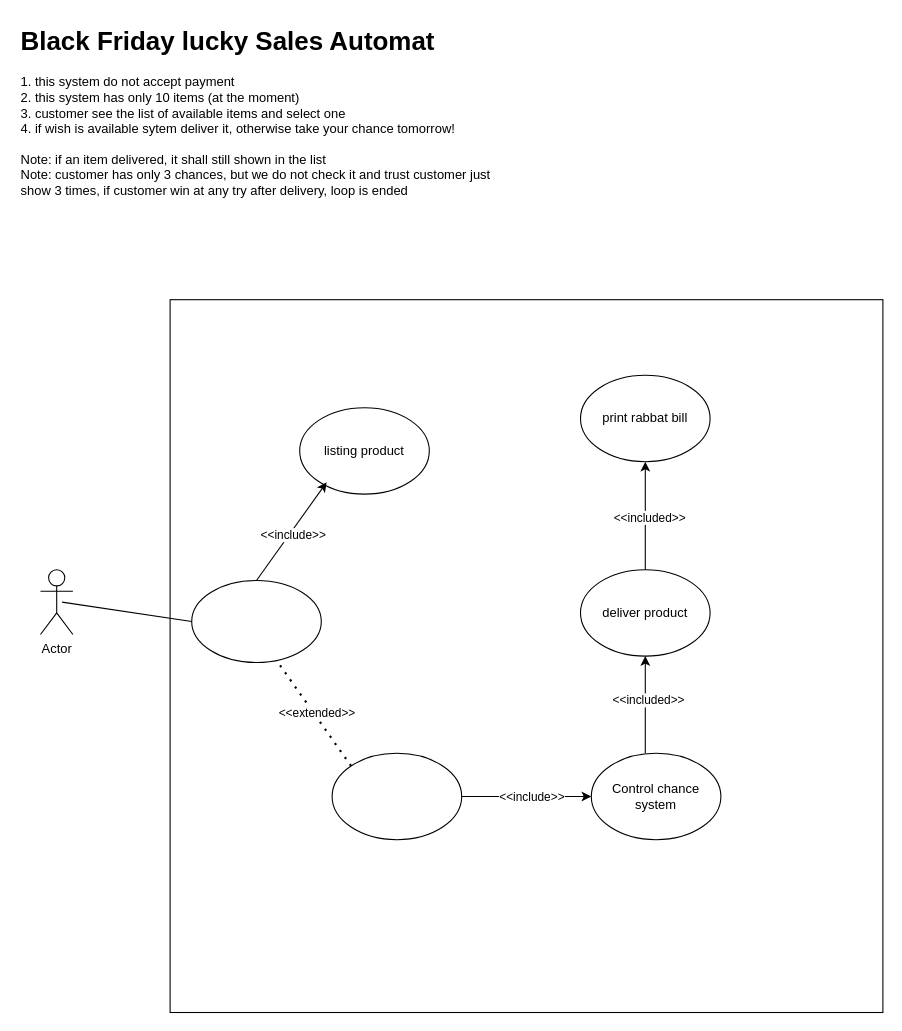
Some shapes in this 902 by 1031 pixel diagram are drawn without their labels. The shapes that lost their labels are listed below. From the top down, each one's box as (x1, y1, x2, y2) in pixels, then its label:
(191, 579, 321, 663): see product list
(331, 752, 462, 840): choose product
